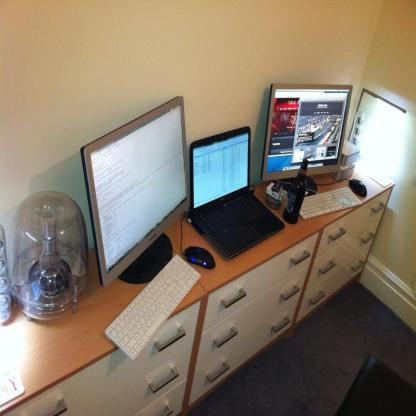board: (189, 124, 285, 260), (284, 158, 308, 224)
